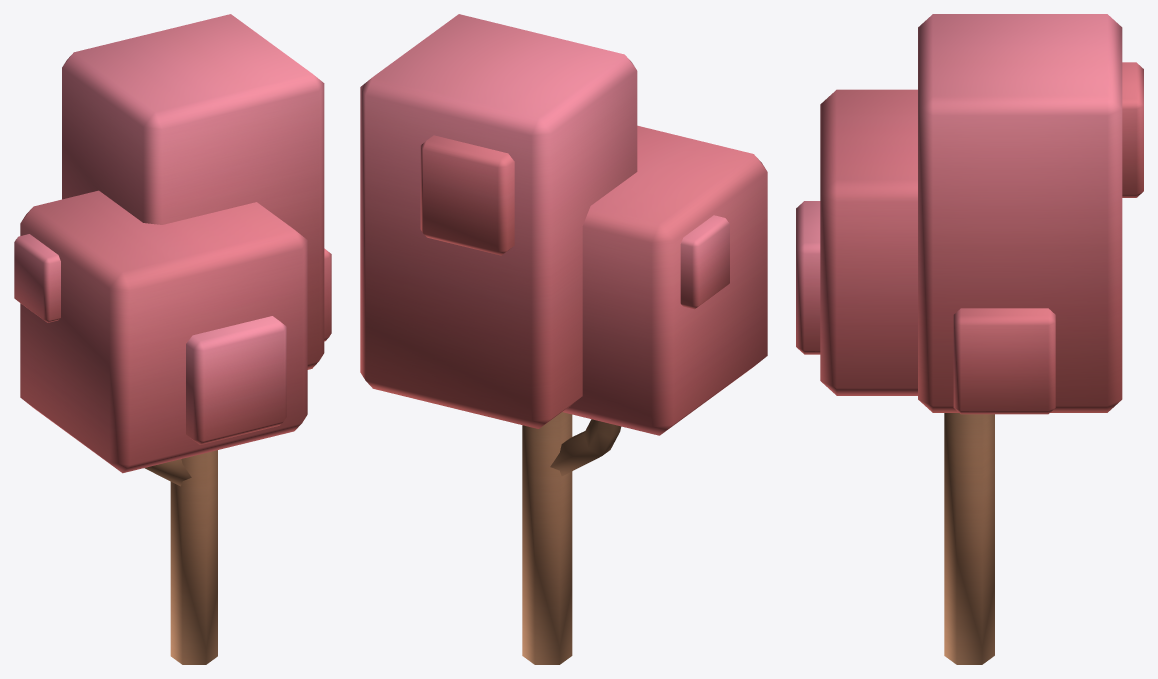
Rendered from Tree01.glb.
3 views of the same model, side by side, from view 1: azimuth 30°, elevation 25°; view 2: azimuth 150°, elevation 25°; view 3: azimuth 270°, elevation 25° (orthographic). The views are drawn at different scales.
Visible parts, largest first — view 1: Tree01; view 2: Tree01; view 3: Tree01.
Part boxes in pixels (x1,y1,x2,y2): Tree01: (14, 14, 331, 664); Tree01: (360, 14, 767, 664); Tree01: (796, 14, 1143, 664).
Size of what is drawn, in the model's own units: 1.08 by 1.99 by 1.03.
1 material, 1 textured.
